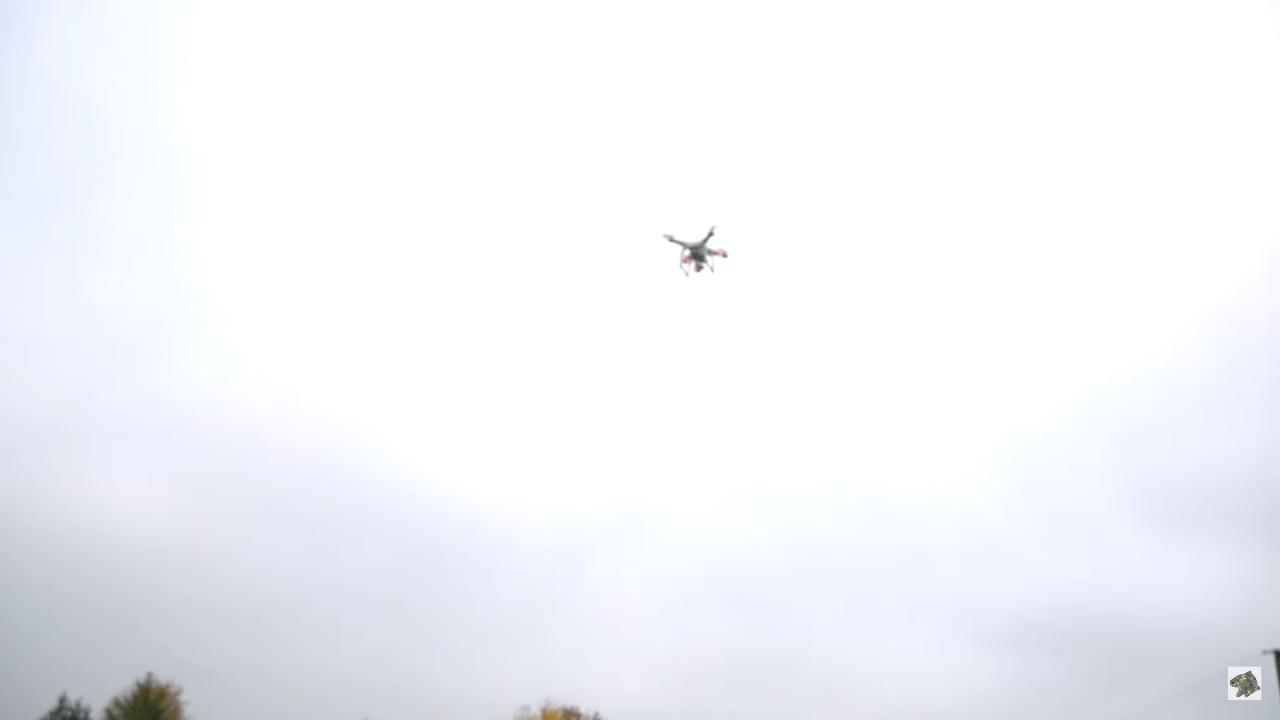Drone: (651, 220, 745, 284)
